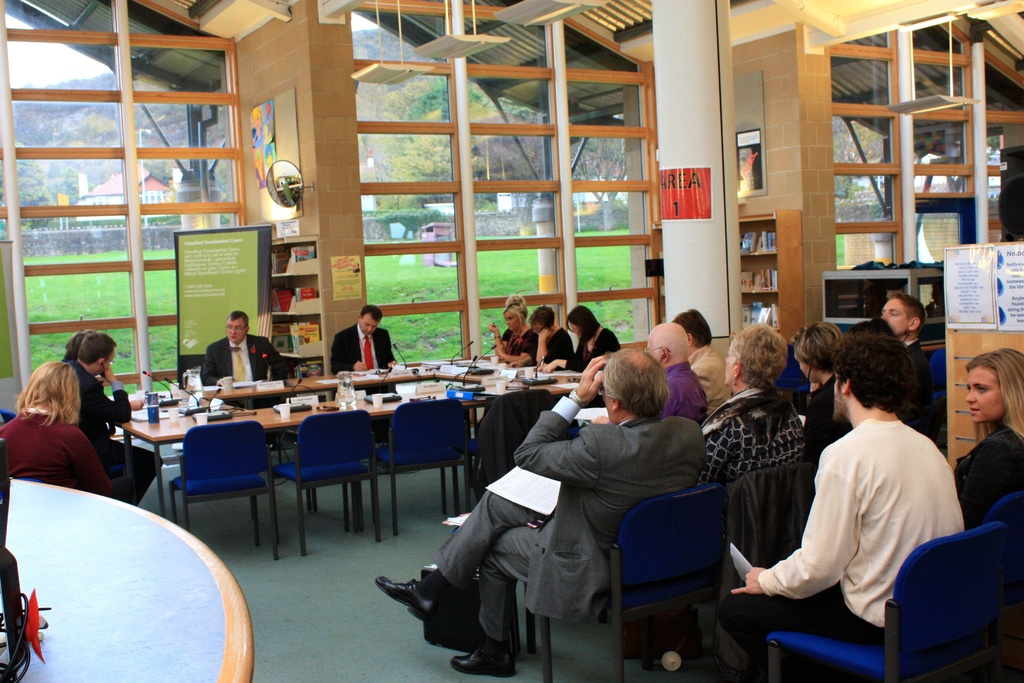Chair: (758, 518, 1023, 682), (538, 488, 733, 682), (273, 413, 376, 547), (381, 393, 477, 536), (173, 415, 283, 538), (474, 386, 545, 504)
